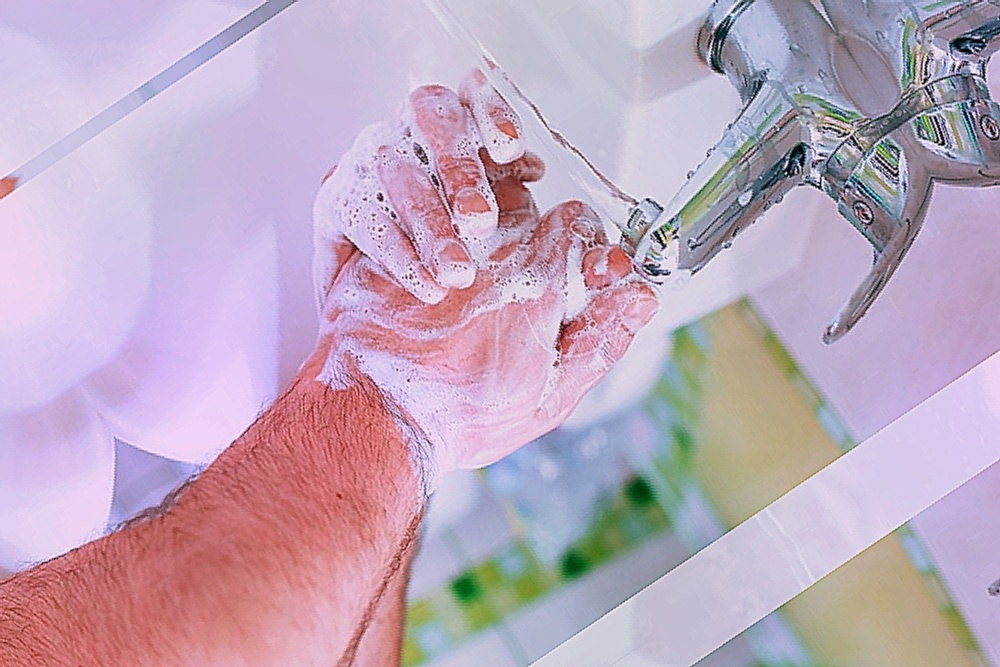washing hand: (204, 0, 972, 584)
